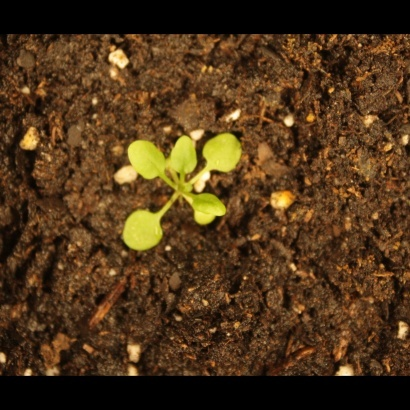leaf: (116, 204, 170, 253), (202, 131, 251, 176), (124, 137, 170, 179), (168, 134, 199, 178), (190, 190, 230, 222), (194, 209, 217, 232)
